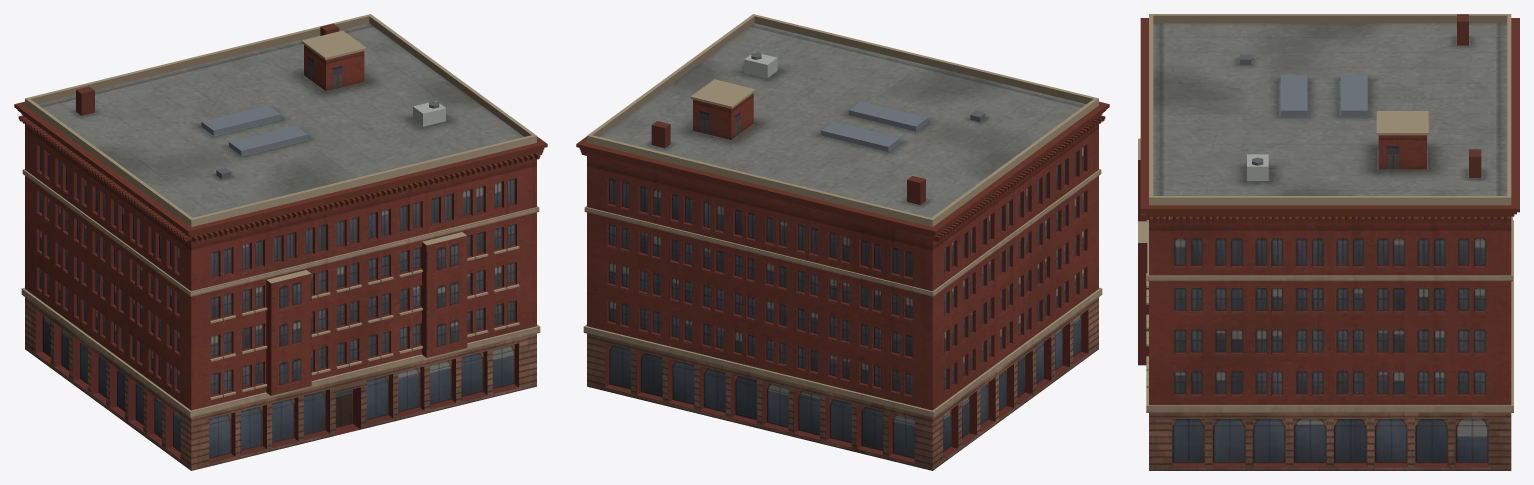
File: seattle_pioneer_a.glb
The picture shows the model from 3 angles, left to right: view 1: azimuth 30°, elevation 25°; view 2: azimuth 150°, elevation 25°; view 3: azimuth 270°, elevation 25°; orthographic projection. The views are drawn at different scales.
Parts seen in each view (by area): view 1: seattle_pioneer_a; view 2: seattle_pioneer_a; view 3: seattle_pioneer_a.
Part boxes in pixels (x1=…): seattle_pioneer_a: x1=14, y1=14, x2=547, y2=470; seattle_pioneer_a: x1=576, y1=14, x2=1109, y2=470; seattle_pioneer_a: x1=1138, y1=14, x2=1519, y2=470.
Bounding box in the file's own units: 37.4 × 27.67 × 31.6.
1 material, 1 textured.
